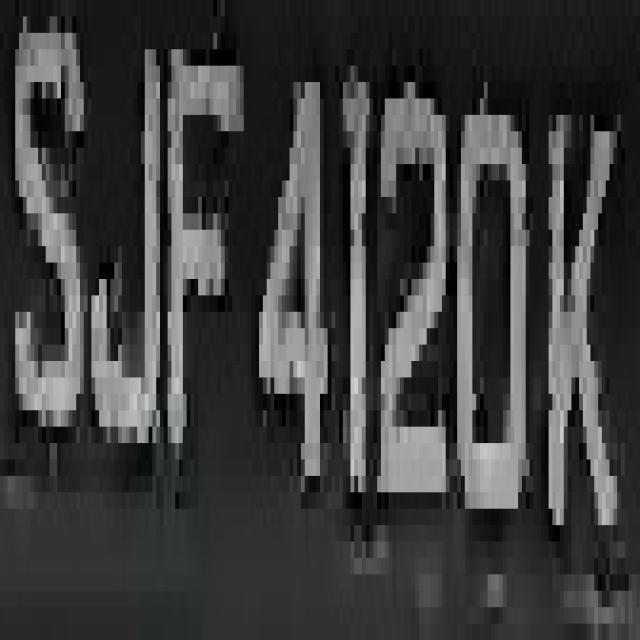0: (457, 16, 526, 542)
1: (332, 49, 374, 542)
2: (370, 49, 450, 525)
4: (240, 17, 328, 525)
F: (168, 0, 248, 509)
J: (88, 16, 168, 476)
K: (537, 82, 617, 558)
S: (0, 16, 88, 492)
